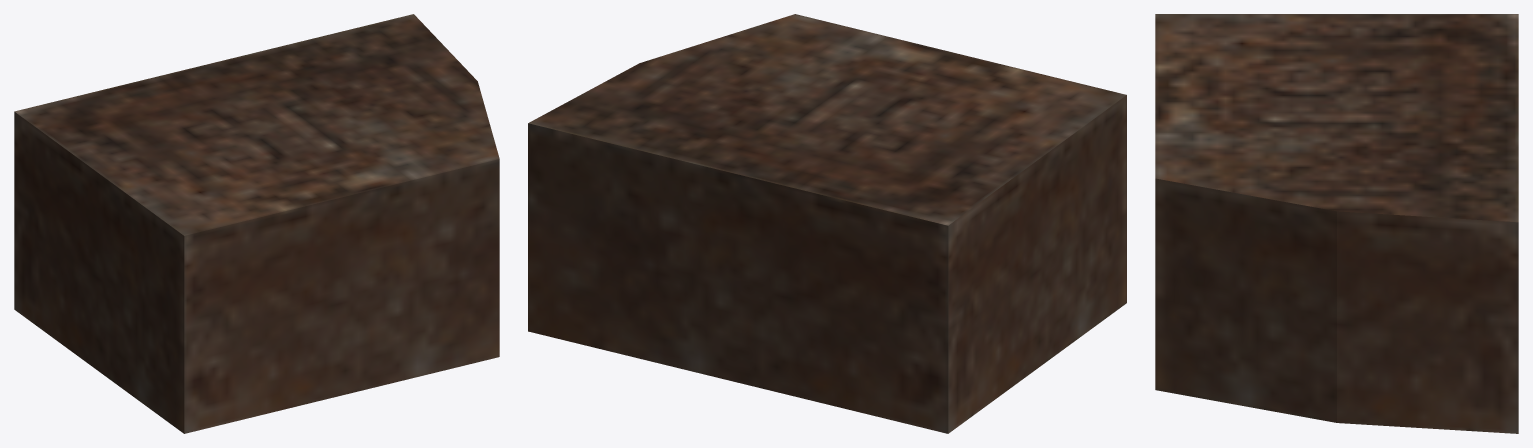
File: brick_mx_4_1.obj
3 renders of one model, left to right at view 1: azimuth 30°, elevation 25°; view 2: azimuth 150°, elevation 25°; view 3: azimuth 270°, elevation 25°, orthographic. The views are drawn at different scales.
Parts seen in each view (by area): view 1: brick_mx_4_1; view 2: brick_mx_4_1; view 3: brick_mx_4_1.
Part boxes in pixels (x1,y1,x2,y2): brick_mx_4_1: [14, 14, 499, 433]; brick_mx_4_1: [528, 14, 1126, 433]; brick_mx_4_1: [1155, 14, 1518, 433].
Bounding box in the file's own units: 0.19 × 0.09 × 0.14.
